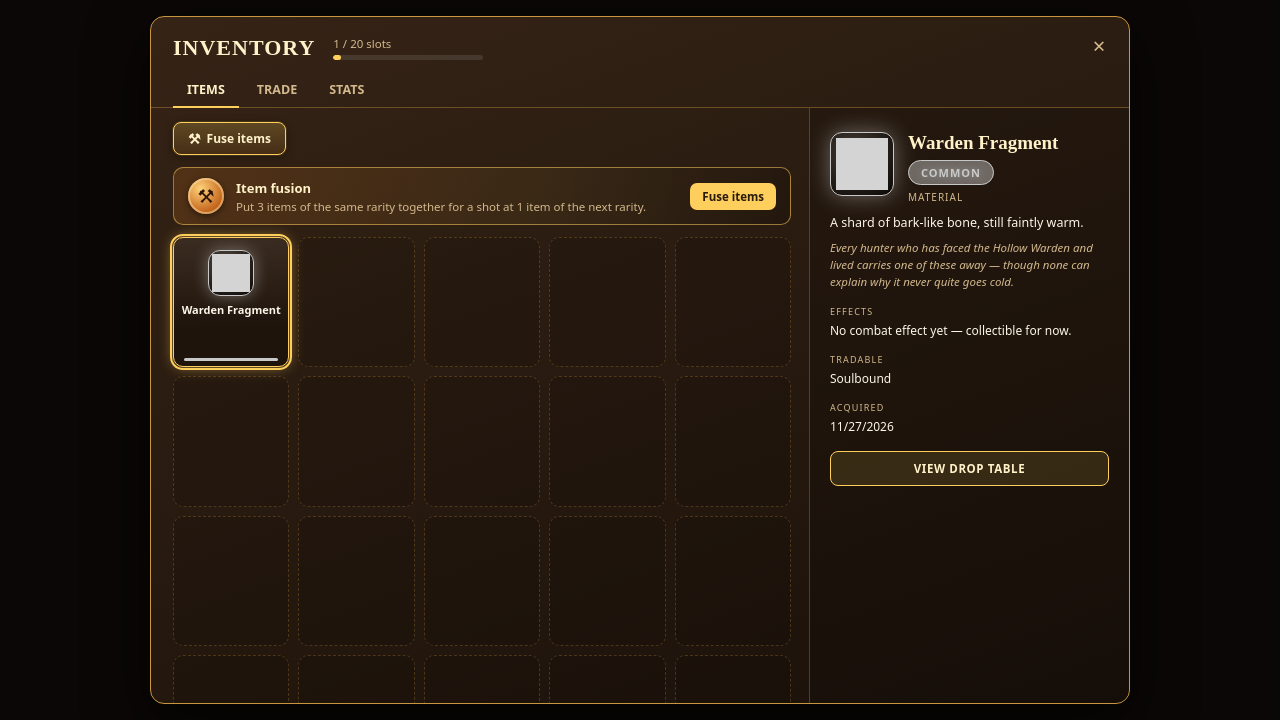
Test: InventoryPanel — Item Fusion mode (SISTEMA DE FUSÃO DE ITENS) › fusion is a mode: off by default, and turning it on shows the bench with an empty pick
Expected: the text "0/3 selected" is not shown
Click the button with test id "inventory-fusion-toggle" at point(229, 138), box [173, 122, 286, 155]
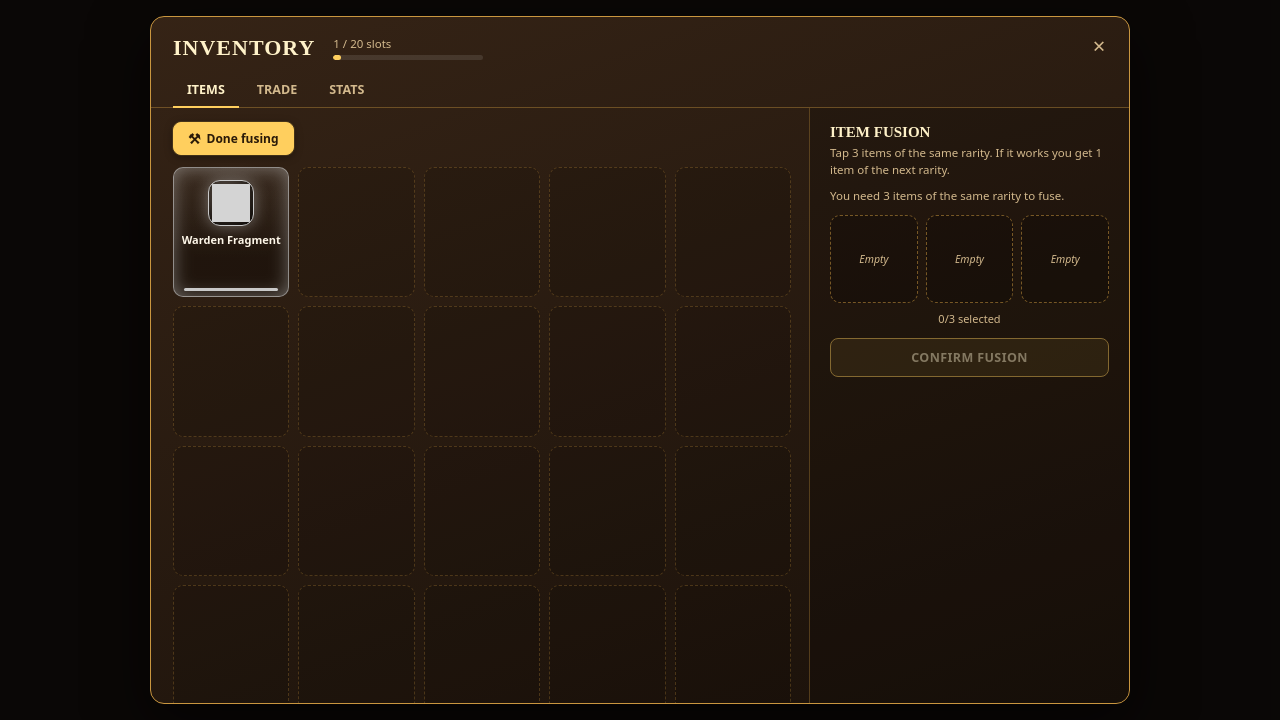
Expected: the text "ITEM FUSION" is shown, [830, 124, 930, 140]
Now the text "0/3 selected" is shown, box [938, 311, 1001, 326]
